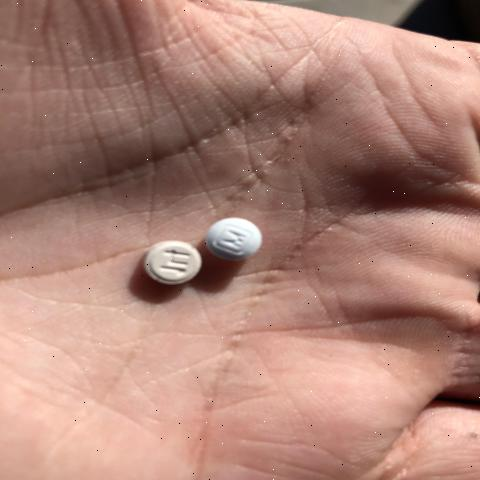Pill: (205, 204, 272, 274), (128, 237, 198, 302)
